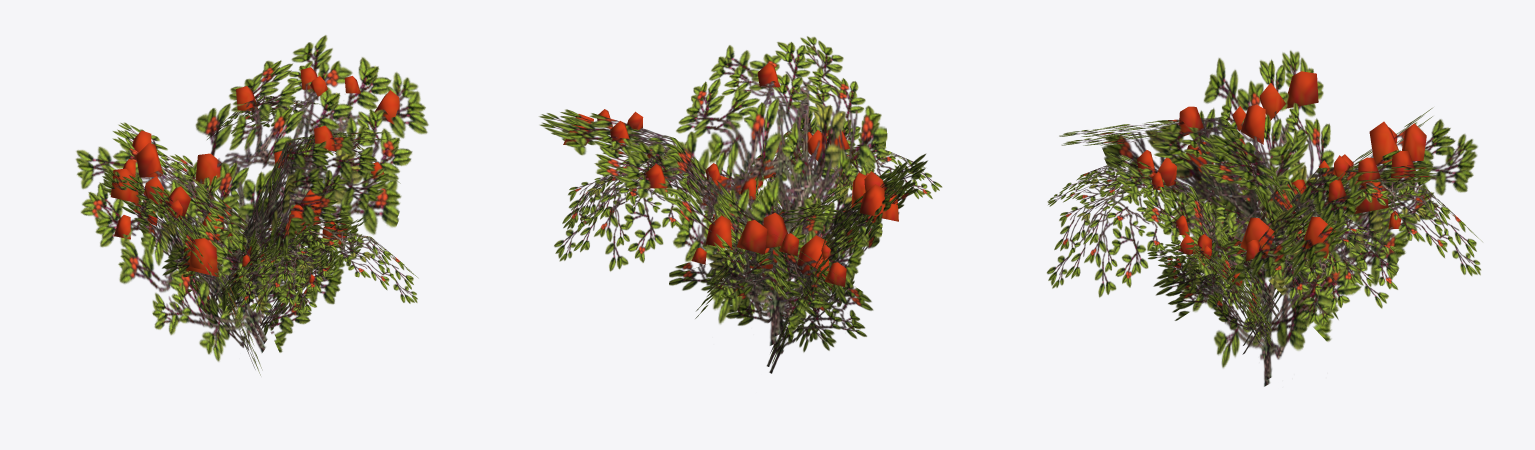
The model's file is plant-06.glb.
3 renders of one model, left to right at view 1: azimuth 30°, elevation 25°; view 2: azimuth 150°, elevation 25°; view 3: azimuth 270°, elevation 25°, orthographic. The views are drawn at different scales.
Parts seen in each view (by area): view 1: Plane; view 2: Plane; view 3: Plane.
Part boxes in pixels (bbox=[...]): Plane: bbox=[75, 35, 428, 375]; Plane: bbox=[539, 36, 942, 373]; Plane: bbox=[1047, 50, 1482, 386].
Size of the model in its own units: 9.37 by 6.79 by 8.96.
Materials: 1 (1 with a texture image).
